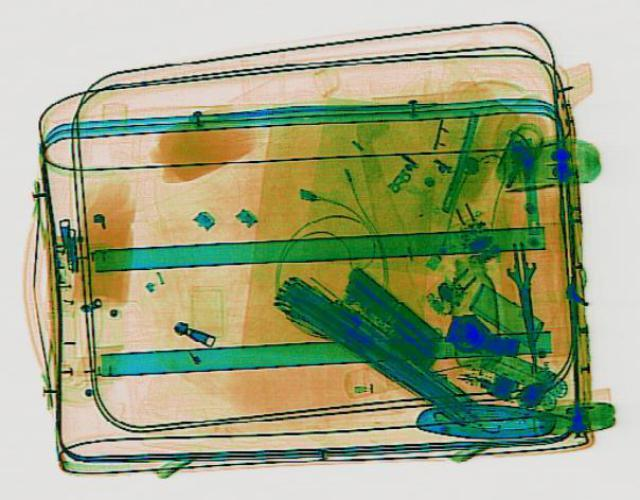Knife: (498, 239, 550, 369)
